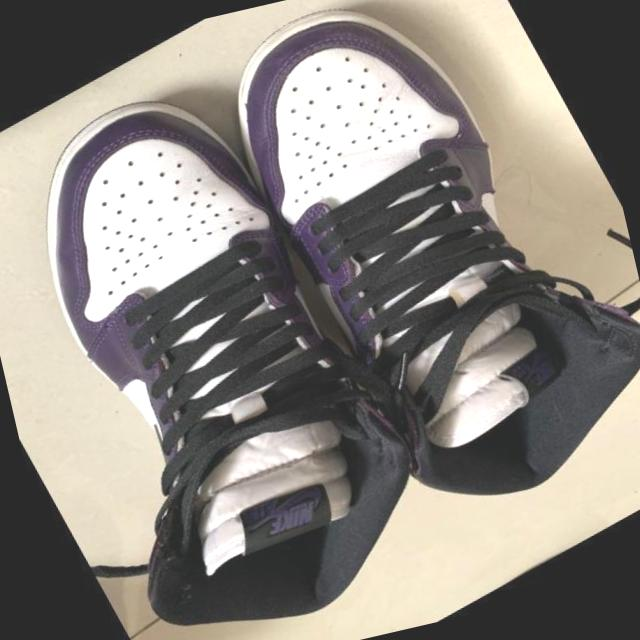nike_original_jordan: (0, 28, 474, 640), (180, 0, 640, 563)
